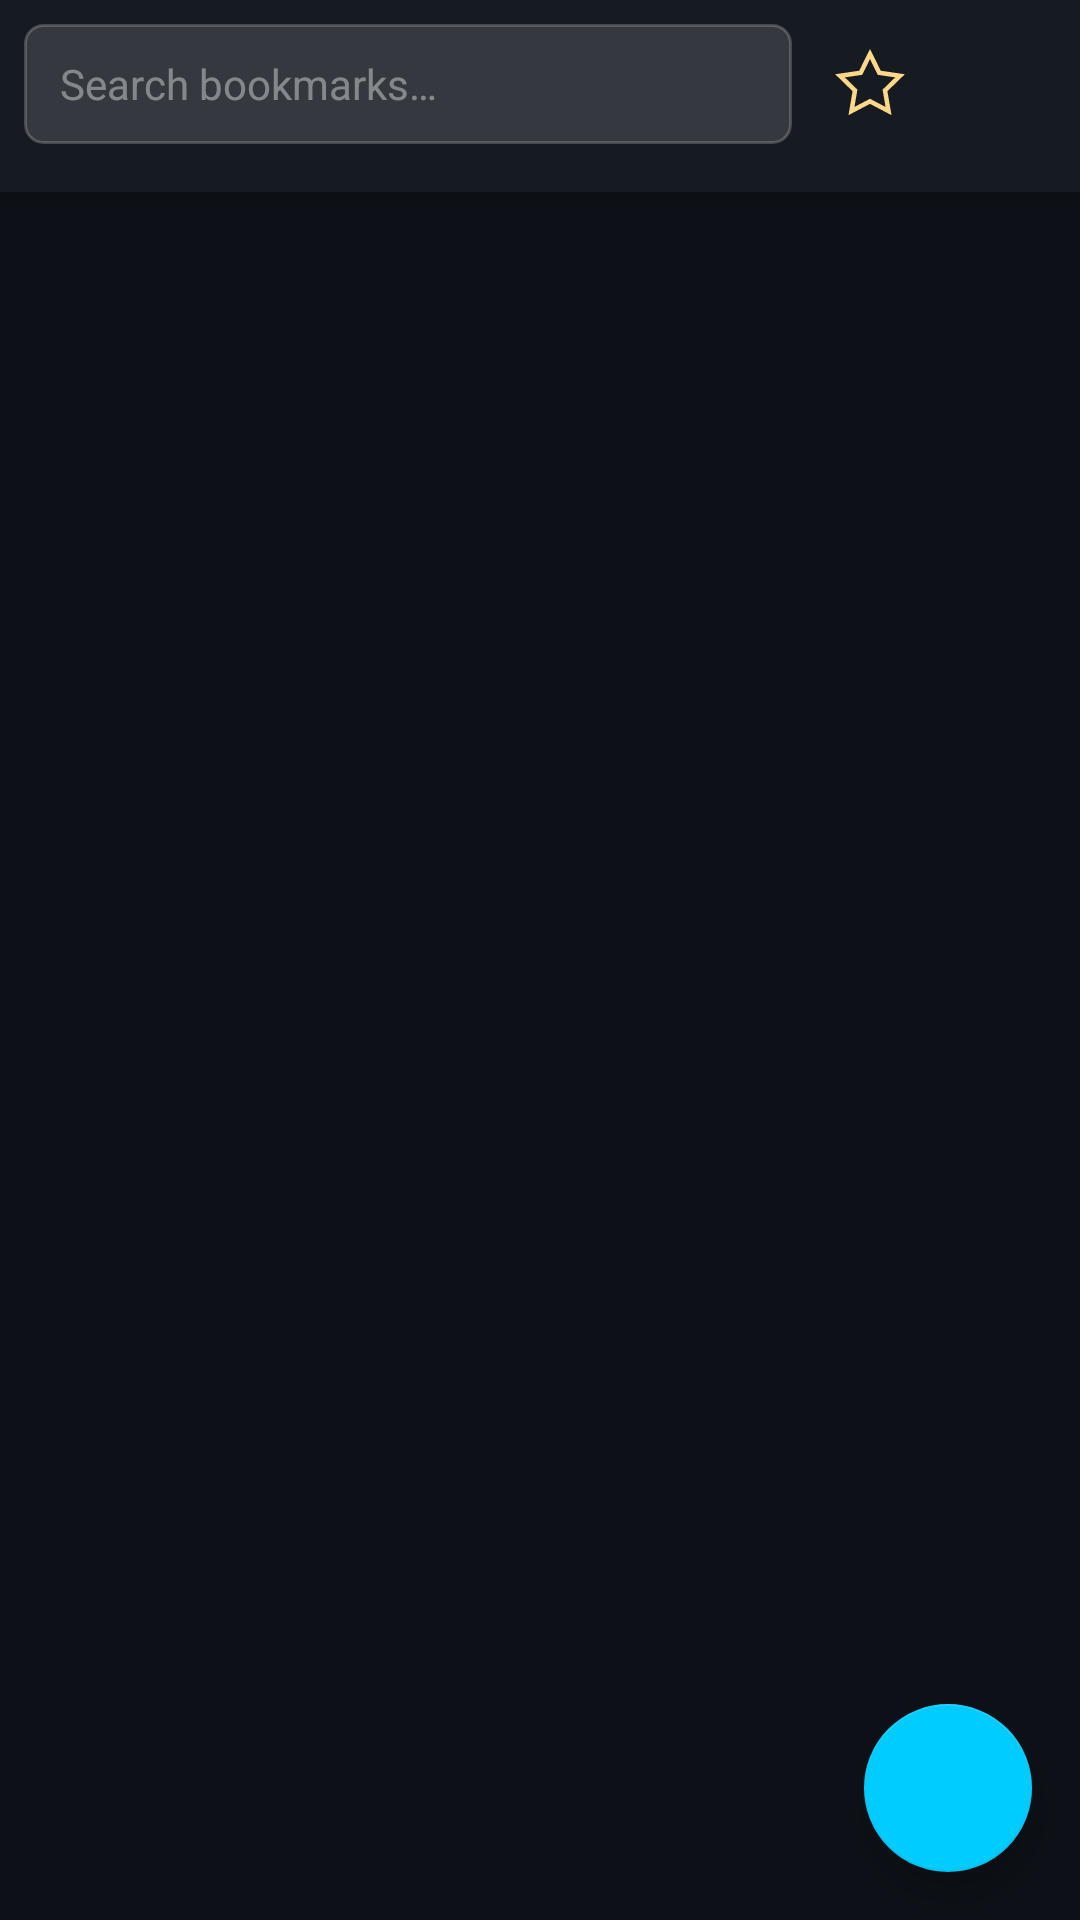

Icons on this 1080px x 1920px Android screen, each with the point to tap as (x=x, y=y):
Show favorites only: (x=870, y=82)
